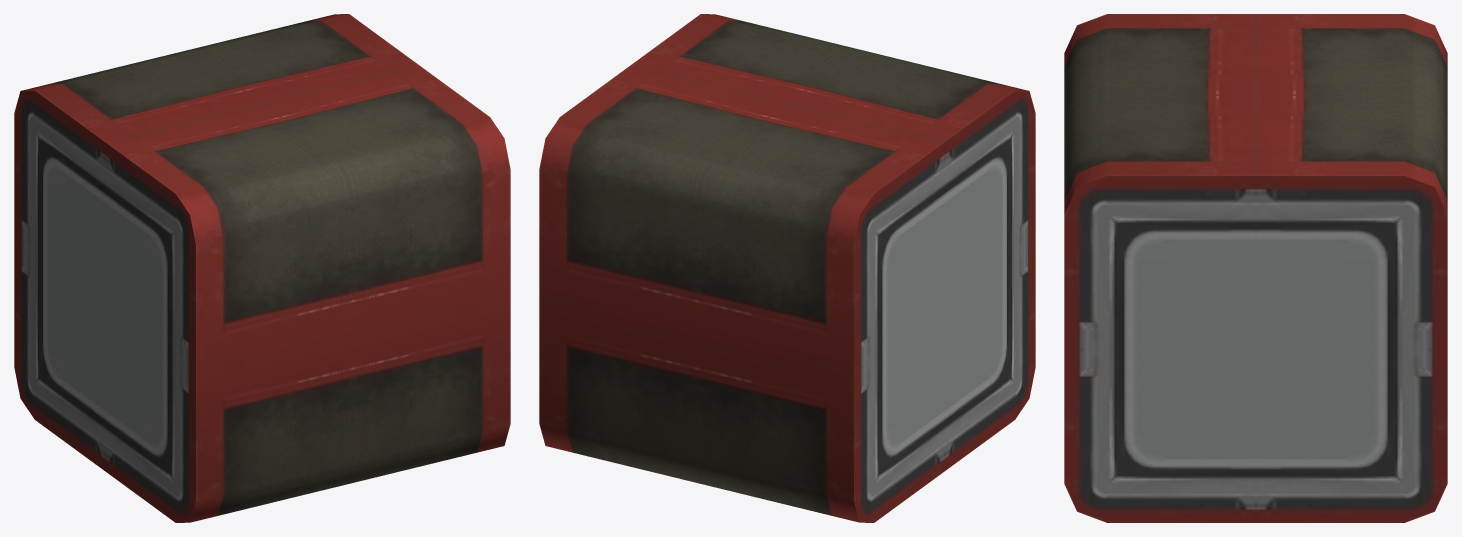
The picture shows the model from 3 angles, left to right: view 1: azimuth 30°, elevation 25°; view 2: azimuth 150°, elevation 25°; view 3: azimuth 270°, elevation 25°; orthographic projection. The views are drawn at different scales.
Visible parts, largest first — view 1: box3; view 2: box3; view 3: box3.
Part boxes in pixels (box(x1,y1,x2,y2)): box3: box(14, 14, 510, 522); box3: box(539, 14, 1035, 522); box3: box(1064, 14, 1447, 522).
Size of the model in its own units: 1 by 1 by 1.
Materials: 1 (1 with a texture image).
